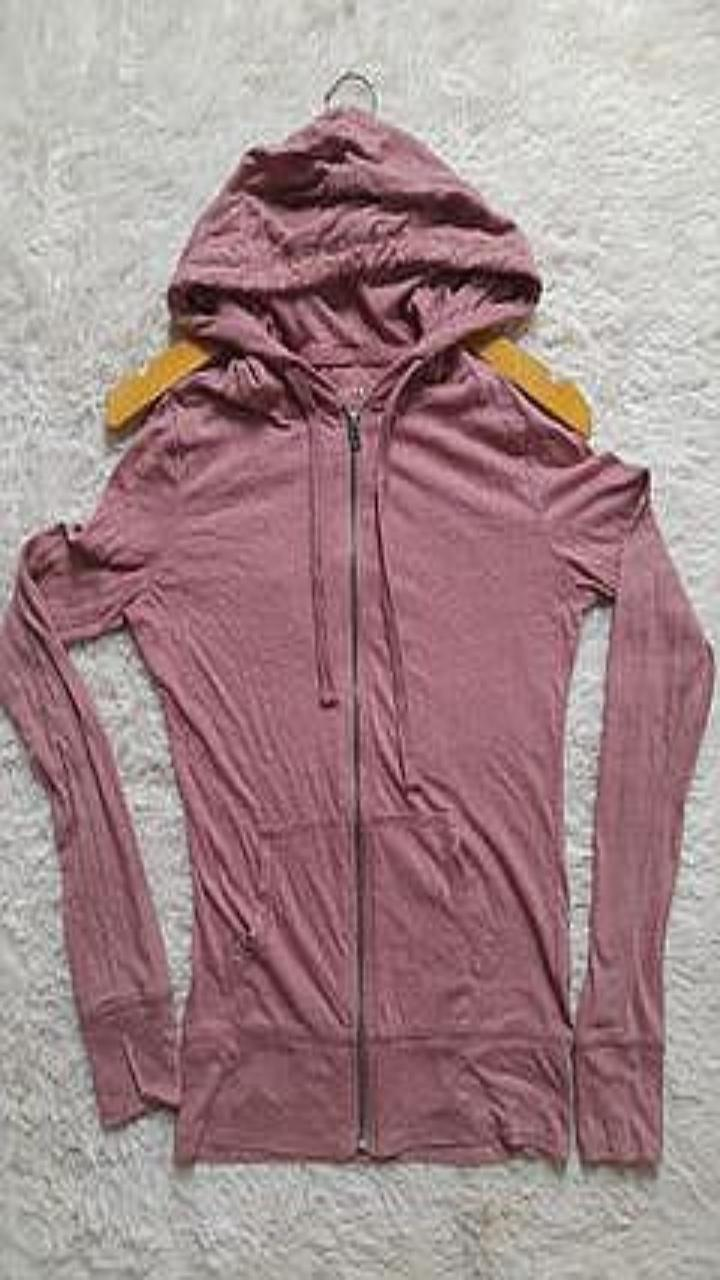Hoodie: (0, 107, 713, 1163)
